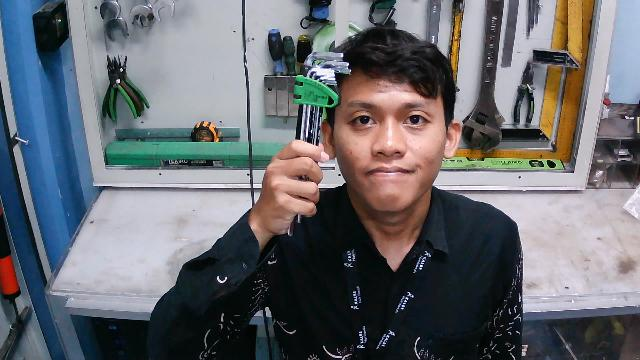kunci_l: (285, 50, 353, 238)
